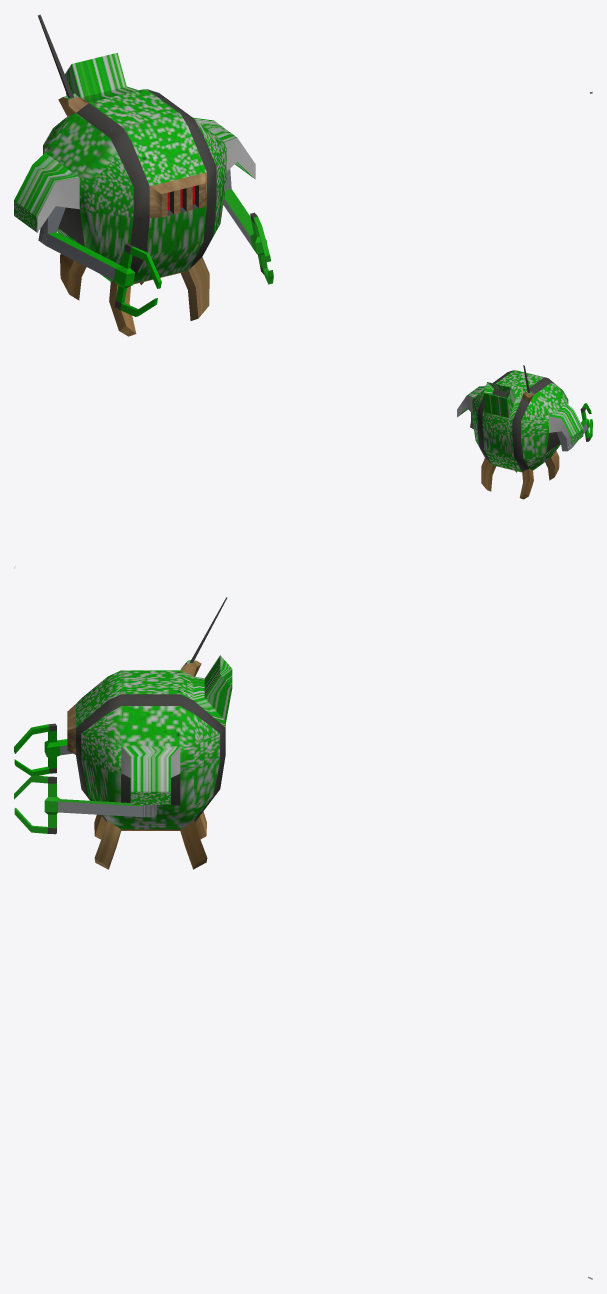
File: guideGreen.fbx
The picture shows the model from 3 angles, top to bottom: view 1: azimuth 30°, elevation 25°; view 2: azimuth 150°, elevation 25°; view 3: azimuth 270°, elevation 25°; orthographic projection. The views are drawn at different scales.
Visible parts, largest first — view 1: pCube1; view 2: pCube1; view 3: pCube1.
Part boxes in pixels (x1=…): pCube1: x1=14, y1=14, x2=273, y2=336; pCube1: x1=457, y1=365, x2=592, y2=499; pCube1: x1=14, y1=597, x2=232, y2=869.
Size of the model in its own units: 2.98 by 1.46 by 2.12.
